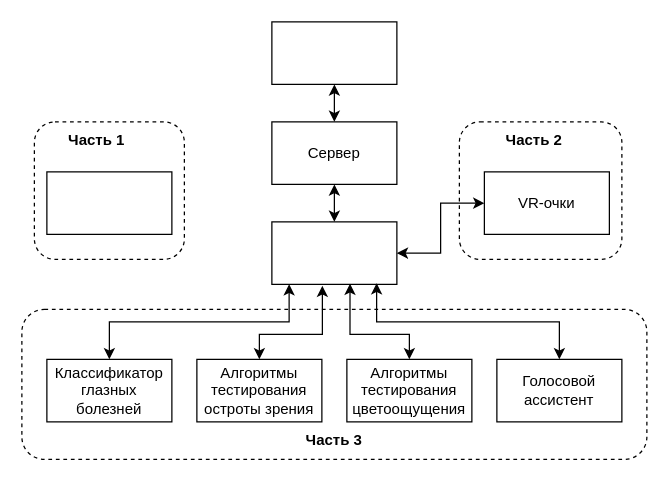
This 669x481 diagram has some shape labels left out. Here are the shapes that lost their labels. From the top down, the centre of each, then its label:
At pixel 334 52: "БД".
At pixel 109 202: "Прибор КЧСМ".
At pixel 334 252: "Мобильное приложение".
